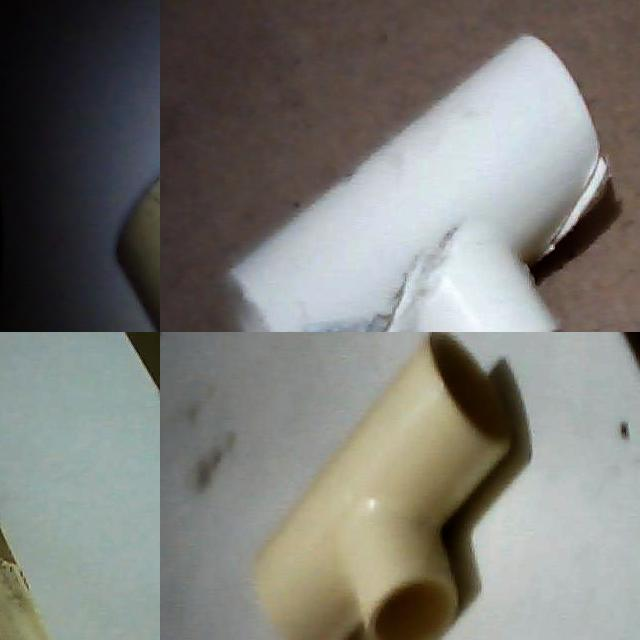Defective: (514, 102, 618, 276), (267, 293, 389, 332), (0, 449, 22, 569)
T Joint: (222, 35, 615, 332), (253, 332, 513, 640)
